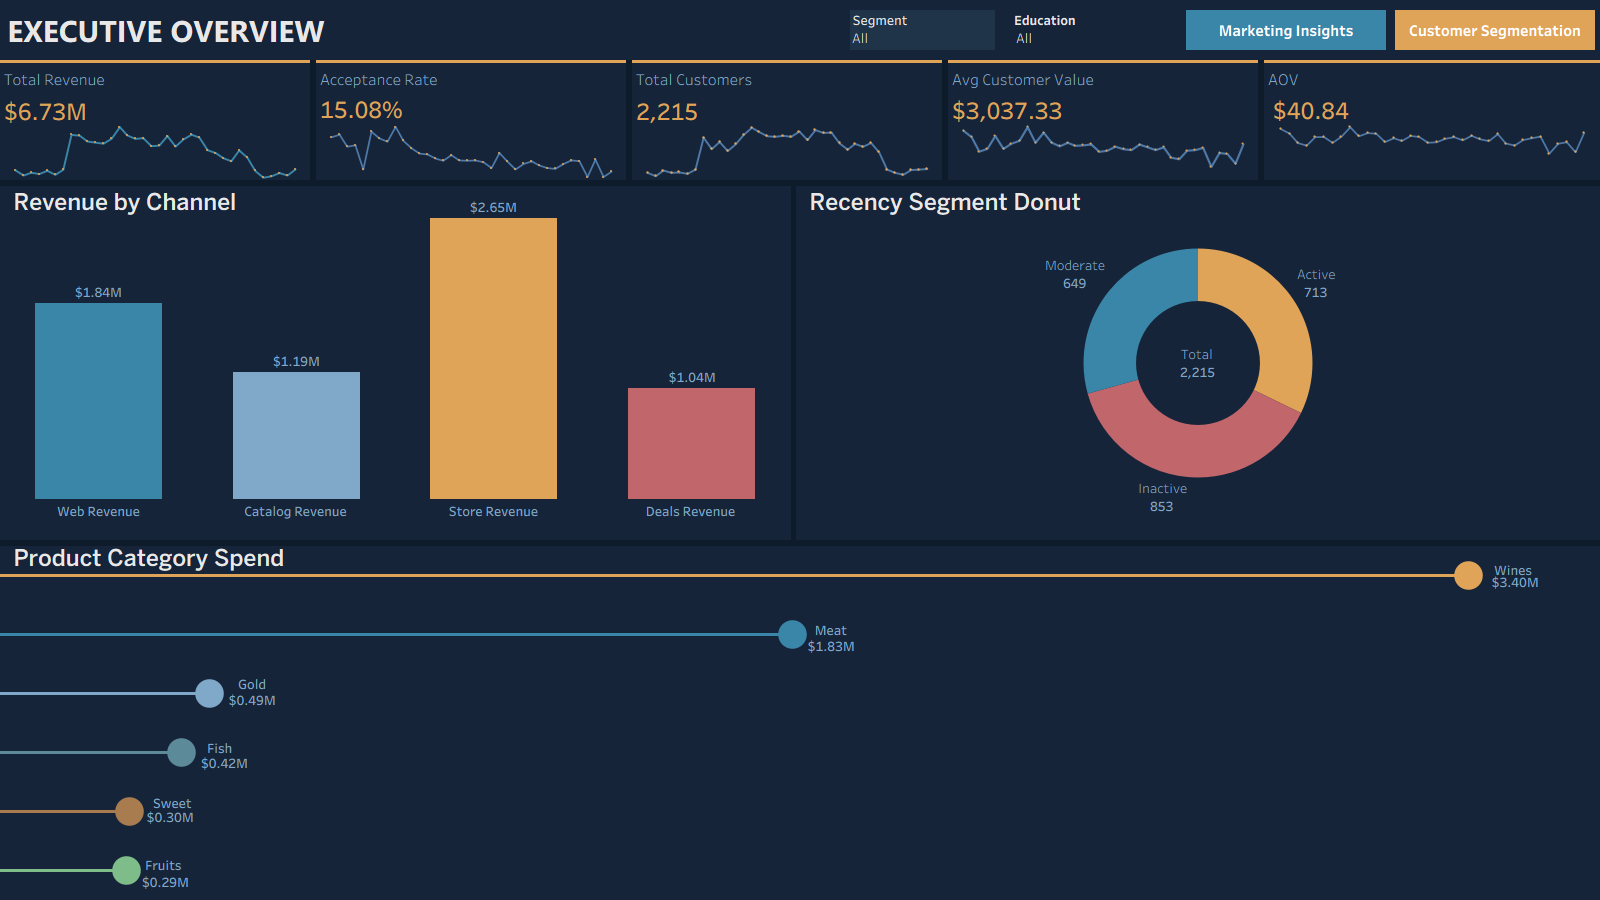

The page's visual inventory and layout, read from the dashboard file:
{"tool":"tableau","page":{"name":"Dashboard 1","canvas":[1600,900],"ordinal":0},"visuals":[{"type":"text","box":[0,0,1600,60]},{"type":"filter","title":"Revenue by Chanel","param":"[federated.1vi3xsm1xu7bal18wals21w07avw].[none:Recency_Segment:nk]","box":[850,10,145,40]},{"type":"filter","title":"Revenue by Chanel","param":"[federated.1vi3xsm1xu7bal18wals21w07avw].[none:Education:nk]","box":[1014,10,145,40]},{"type":"dashboard-object","box":[1186,10,200,40]},{"type":"dashboard-object","box":[1395,10,200,40]},{"type":"blank","box":[0,60,310,3]},{"type":"blank","box":[310,60,6,120]},{"type":"blank","box":[316,60,310,3]},{"type":"blank","box":[626,60,6,120]},{"type":"blank","box":[632,60,310,3]},{"type":"blank","box":[942,60,6,120]},{"type":"blank","box":[948,60,310,3]},{"type":"blank","box":[1258,60,6,120]},{"type":"blank","box":[1264,60,336,3]},{"type":"worksheet","title":"Total Revenue ","mark":"Automatic","box":[0,63,310,60]},{"type":"worksheet","title":"Acceptance Rate","mark":"Automatic","box":[316,63,310,60]},{"type":"worksheet","title":"Total Customers","mark":"Automatic","box":[632,63,310,60]},{"type":"worksheet","title":"Avg Customer Value","mark":"Automatic","box":[948,63,310,60]},{"type":"worksheet","title":"AOV","mark":"Automatic","box":[1264,63,336,60]},{"type":"worksheet","title":"Total Revenue Sparkline ","mark":"Line","rows":["Total_Spending","Total_Spending"],"cols":["Dt_Customer"],"box":[0,123,310,57]},{"type":"worksheet","title":"Acceptance Rate Sparkline","mark":"Automatic","rows":["Calculation_1525316290375681","Calculation_1525316290375681"],"cols":["Dt_Customer"],"box":[316,123,310,57]},{"type":"worksheet","title":"Total Customer Sparkline","mark":"Automatic","rows":["Calculation_0373852742451200","Calculation_0373852742451200"],"cols":["Dt_Customer"],"box":[632,123,310,57]},{"type":"worksheet","title":"Avg Customer  Value Sparkline ","mark":"Automatic","rows":["Calculation_0373852743999489","Calculation_0373852743999489"],"cols":["Dt_Customer"],"box":[948,123,310,57]},{"type":"worksheet","title":"AOV Sparkline","mark":"Automatic","rows":["Calculation_0373852797210626","Calculation_0373852797210626"],"cols":["Dt_Customer"],"box":[1264,123,336,57]},{"type":"blank","box":[0,180,1600,6]},{"type":"worksheet","title":"Revenue by Chanel","mark":"Bar","box":[0,186,790,354]},{"type":"blank","box":[790,186,6,354]},{"type":"worksheet","title":"Recency Segment Donut","mark":"Pie","rows":["Calculation_0608324059525124","Calculation_0608324059553798"],"box":[796,186,804,354]},{"type":"text","box":[10,190,300,25]},{"type":"text","box":[10,190,300,25]},{"type":"text","box":[806,190,300,25]},{"type":"blank","box":[0,540,1600,6]},{"type":"worksheet","title":"Product Category Spend","mark":"Automatic","box":[0,546,1600,354]},{"type":"text","box":[10,546,294,25]}]}

Visuals, with their boxes in screenshot pixels (x1, y1, x2, y2), scaled from the page's 1600x900 canvas onto the 1600x900 screenshot:
text: [left=0, top=0, right=1599, bottom=60]
"Revenue by Chanel" filter: [left=850, top=10, right=995, bottom=50]
"Revenue by Chanel" filter: [left=1014, top=10, right=1159, bottom=50]
dashboard-object: [left=1186, top=10, right=1386, bottom=50]
dashboard-object: [left=1395, top=10, right=1595, bottom=50]
blank: [left=0, top=60, right=310, bottom=63]
blank: [left=310, top=60, right=316, bottom=180]
blank: [left=316, top=60, right=626, bottom=63]
blank: [left=626, top=60, right=632, bottom=180]
blank: [left=632, top=60, right=942, bottom=63]
blank: [left=942, top=60, right=948, bottom=180]
blank: [left=948, top=60, right=1258, bottom=63]
blank: [left=1258, top=60, right=1264, bottom=180]
blank: [left=1264, top=60, right=1599, bottom=63]
"Total Revenue " worksheet: [left=0, top=63, right=310, bottom=123]
"Acceptance Rate" worksheet: [left=316, top=63, right=626, bottom=123]
"Total Customers" worksheet: [left=632, top=63, right=942, bottom=123]
"Avg Customer Value" worksheet: [left=948, top=63, right=1258, bottom=123]
"AOV" worksheet: [left=1264, top=63, right=1599, bottom=123]
"Total Revenue Sparkline " worksheet (Line marks): [left=0, top=123, right=310, bottom=180]
"Acceptance Rate Sparkline" worksheet: [left=316, top=123, right=626, bottom=180]
"Total Customer Sparkline" worksheet: [left=632, top=123, right=942, bottom=180]
"Avg Customer  Value Sparkline " worksheet: [left=948, top=123, right=1258, bottom=180]
"AOV Sparkline" worksheet: [left=1264, top=123, right=1599, bottom=180]
blank: [left=0, top=180, right=1599, bottom=186]
"Revenue by Chanel" worksheet (Bar marks): [left=0, top=186, right=790, bottom=540]
blank: [left=790, top=186, right=796, bottom=540]
"Recency Segment Donut" worksheet (Pie marks): [left=796, top=186, right=1599, bottom=540]
text: [left=10, top=190, right=310, bottom=215]
text: [left=10, top=190, right=310, bottom=215]
text: [left=806, top=190, right=1106, bottom=215]
blank: [left=0, top=540, right=1599, bottom=546]
"Product Category Spend" worksheet: [left=0, top=546, right=1599, bottom=899]
text: [left=10, top=546, right=304, bottom=571]
